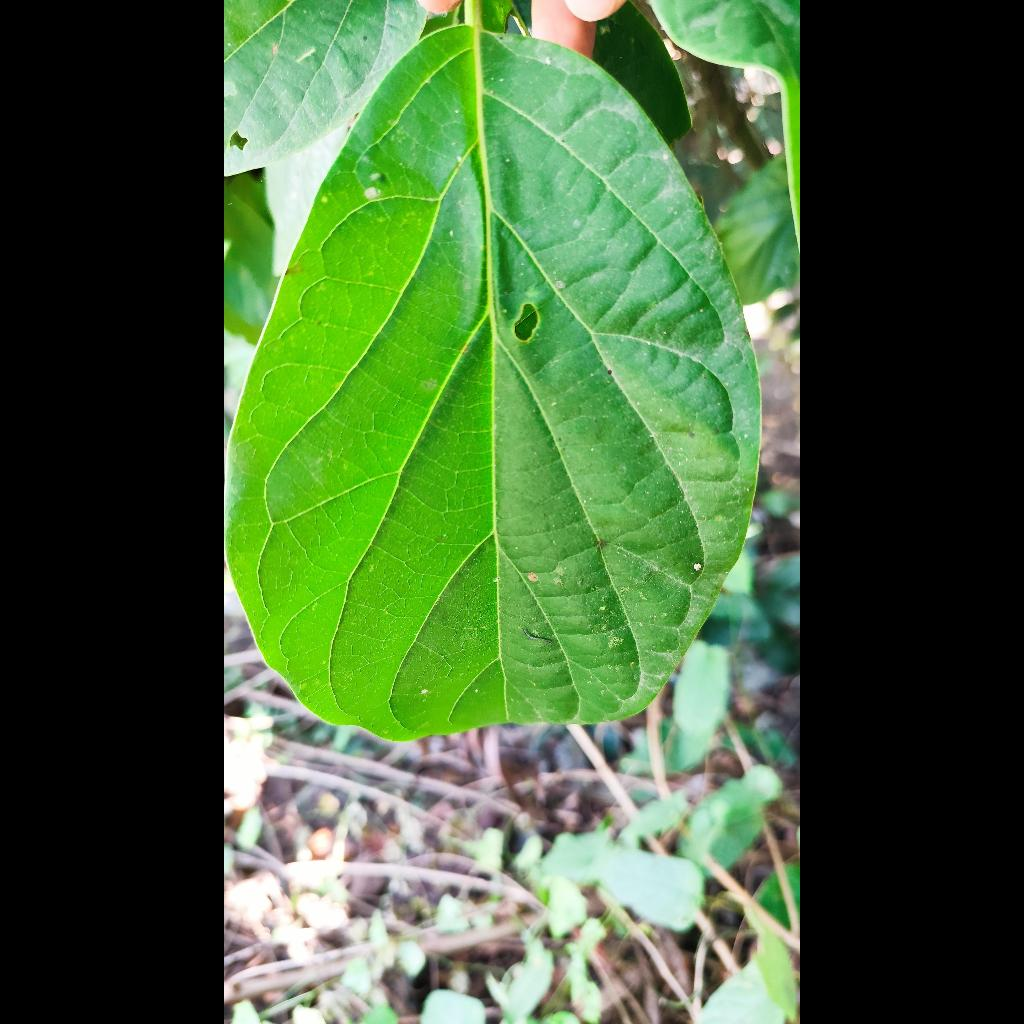Pest Infested: (224, 0, 760, 741)
